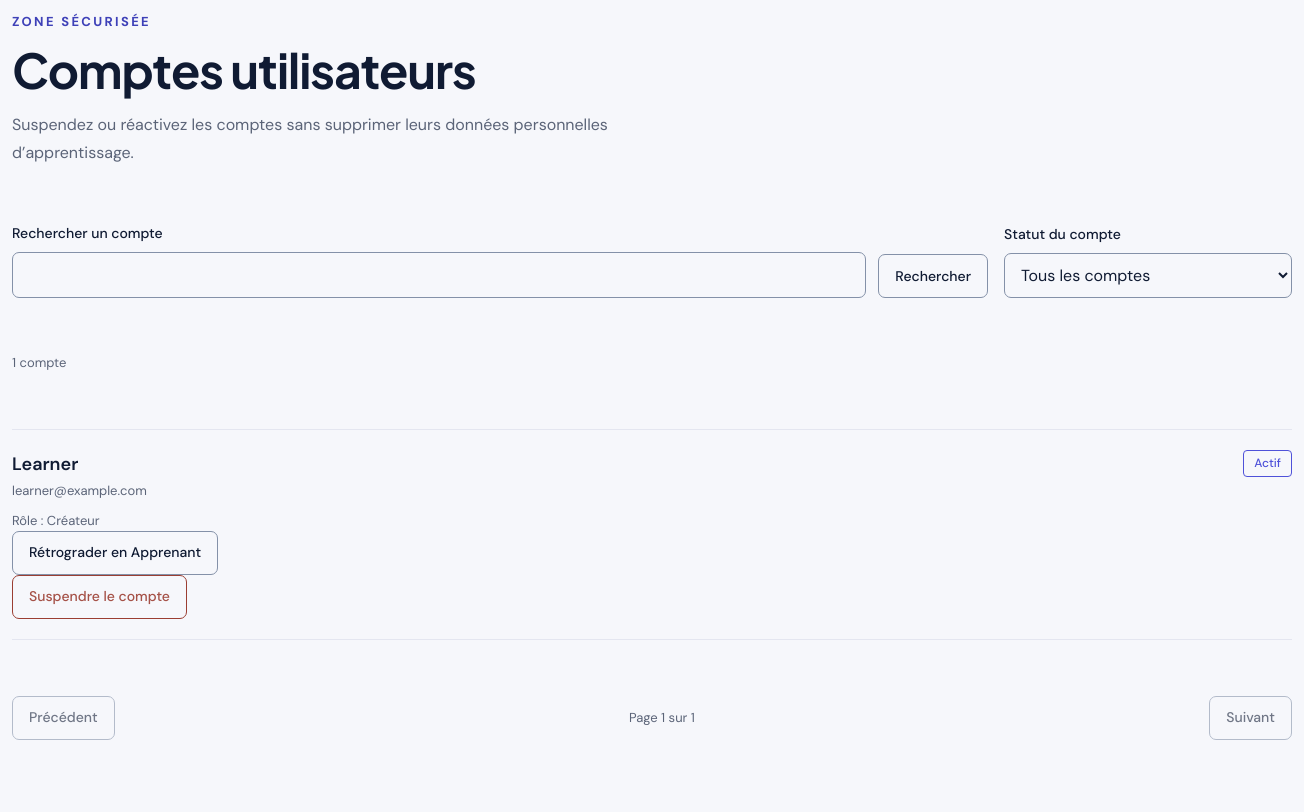
AdminAccountsPage › propose une rétrogradation sans suppression des données personnelles
Click the button "Rétrograder en Apprenant" at (115, 553), box left=12, top=531, right=218, bottom=575
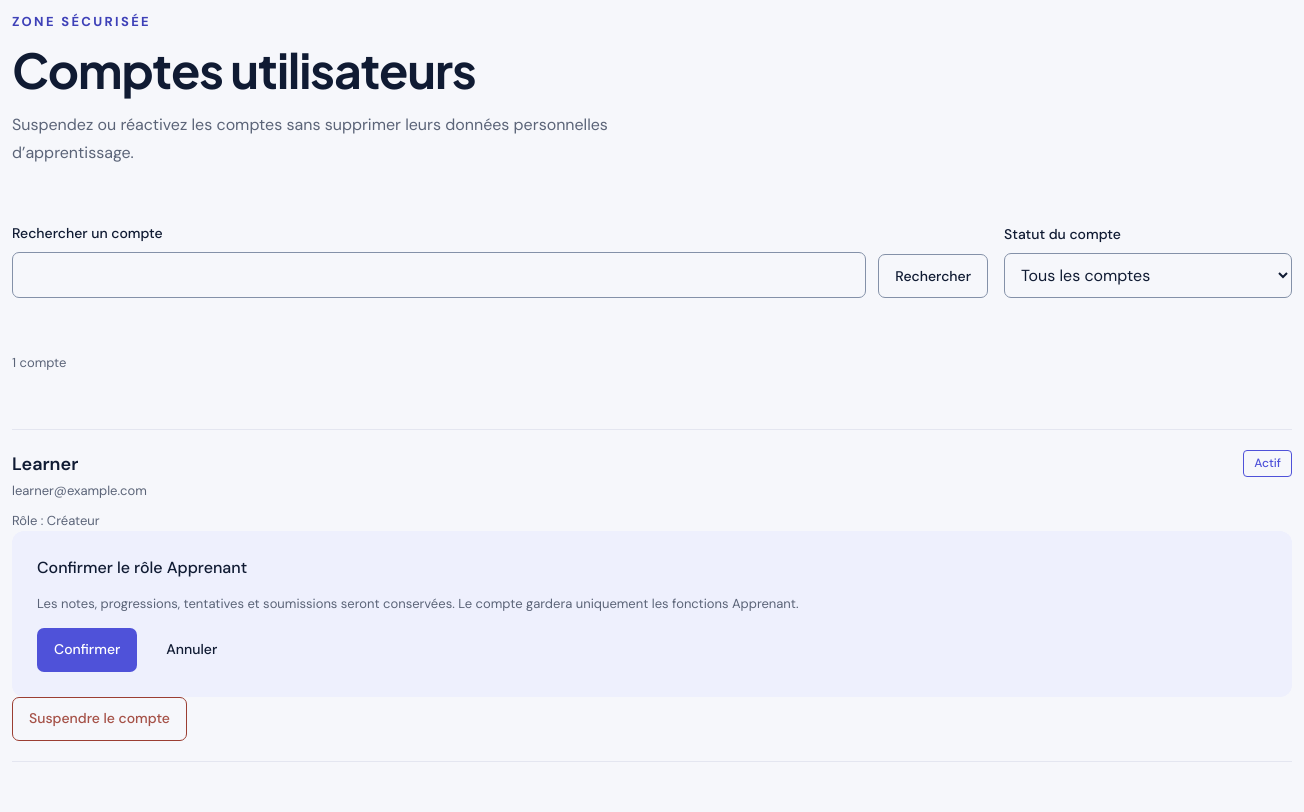
expect the text "notes, progressions, tentatives" is shown: met, box left=37, top=595, right=798, bottom=612
